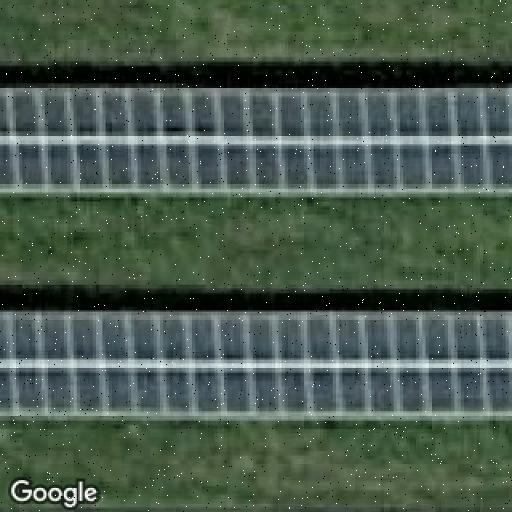solar-panel: (0, 308, 512, 426), (0, 84, 512, 198)
